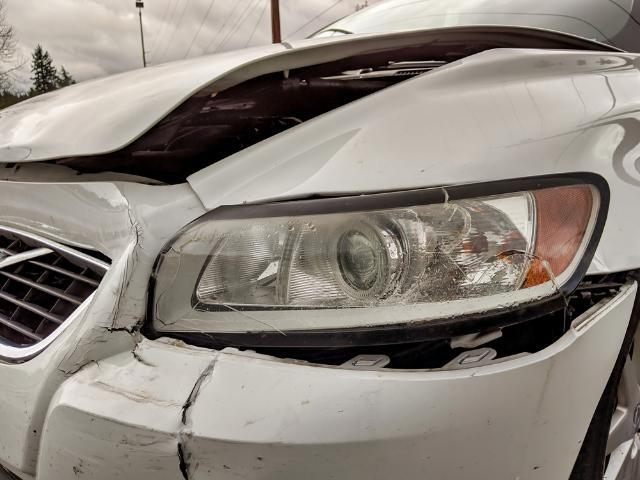crack: (175, 353, 223, 480), (99, 320, 142, 337)
dislocated part: (0, 22, 622, 193), (142, 266, 634, 383)
lamp broken: (148, 176, 609, 350)
scratch: (62, 353, 184, 480)
